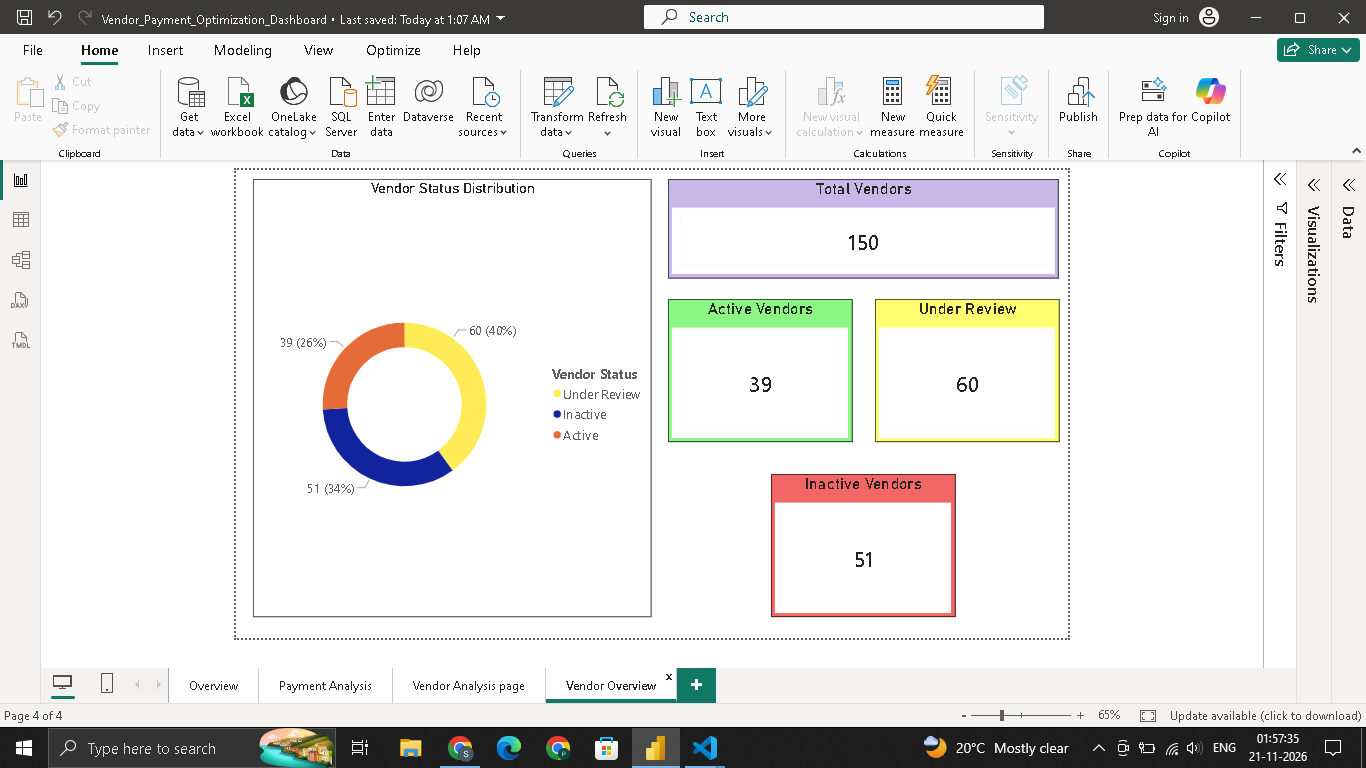

This screenshot's page, from the dashboard's own definition file:
{"tool":"powerbi","page":{"name":"Vendor Overview","canvas":[1280,720],"ordinal":3},"visuals":[{"type":"donutChart","title":"Vendor Status Distribution","fields":{"Category":["vendor_master.vendor_status"],"Y":["CountNonNull(vendor_master.vendor_id)"]},"box":[26.9,13.4,613.1,673.6],"z":0},{"type":"cardVisual","title":"Total Vendors","fields":{"Data":["Count(vendor_master.vendor_id)"]},"box":[665.2,13.4,601.4,152.9],"z":1000},{"type":"cardVisual","title":"Active Vendors","fields":{"Data":["CountNonNull(vendor_master.vendor_id)"]},"box":[665.2,198.2,283.9,220.1],"z":2000},{"type":"cardVisual","title":"Under Review","fields":{"Data":["Count(vendor_master.vendor_id)"]},"box":[982.7,198.2,283.9,220.1],"z":3000},{"type":"cardVisual","title":"Inactive Vendors","fields":{"Data":["Count(vendor_master.vendor_id)"]},"box":[823.1,467,283.9,220.1],"z":4000}]}

Visuals, with their boxes on the page's 1280x720 design canvas (x1, y1, x2, y2). These are canvas units, not pixel positions in the 1366x768 screenshot, which may show the page scaled, cropped or inside an application window:
"Vendor Status Distribution" donutChart: bbox(27, 13, 640, 687)
"Total Vendors" cardVisual: bbox(665, 13, 1267, 166)
"Active Vendors" cardVisual: bbox(665, 198, 949, 418)
"Under Review" cardVisual: bbox(983, 198, 1267, 418)
"Inactive Vendors" cardVisual: bbox(823, 467, 1107, 687)
